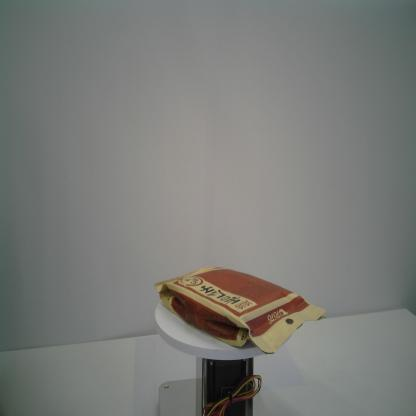Dried Food: (153, 263, 329, 357)
